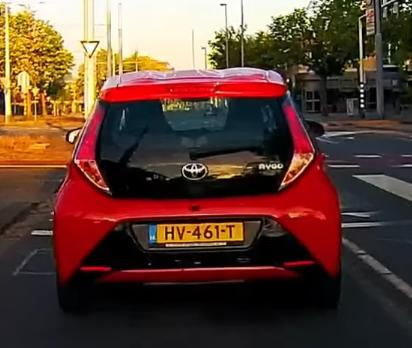license-plate: (149, 221, 246, 247)
